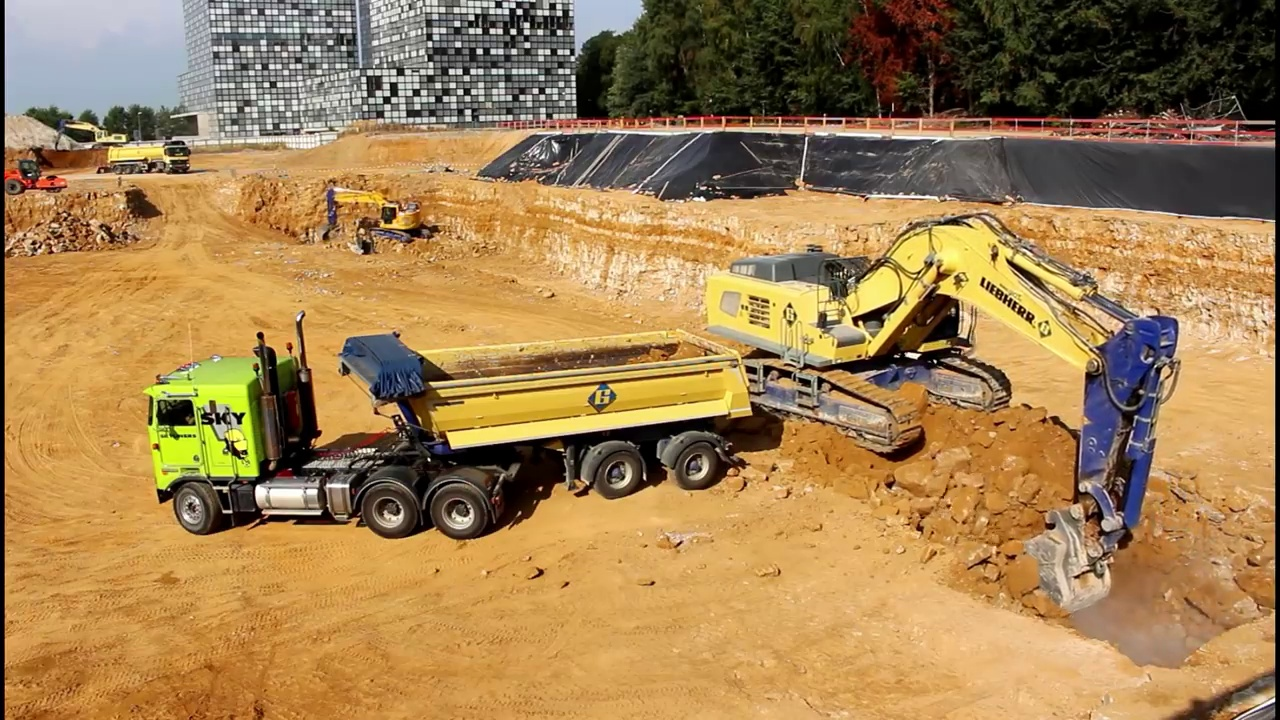compactor: (4, 155, 70, 198)
excavator: (701, 209, 1190, 617), (321, 186, 440, 255), (52, 116, 133, 155)
truck: (136, 305, 757, 548), (104, 137, 195, 179)
